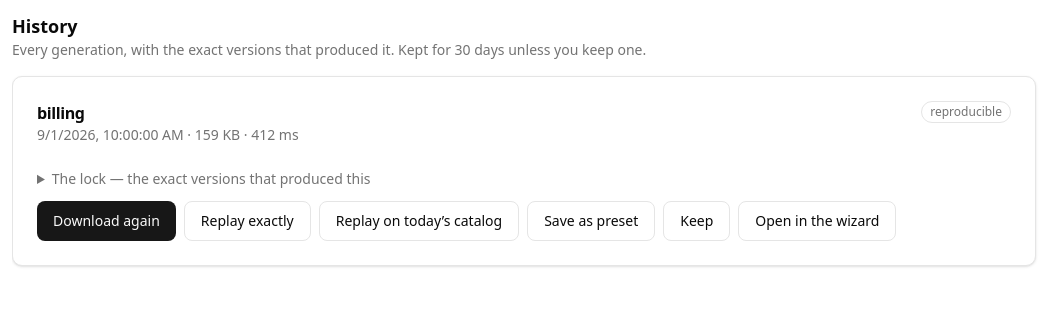
HistoryPage › reports what moved when replaying on today’s catalog
Click the button "Replay on today’s catalog". click: (419, 221)
box: [319,201,519,241]
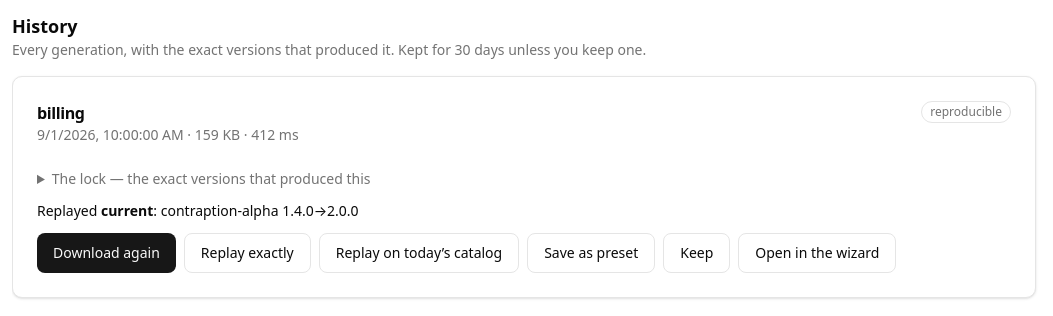
Result: the message shows "contraption-alpha 1.4.0→2.0.0" at [161,201,359,220]
